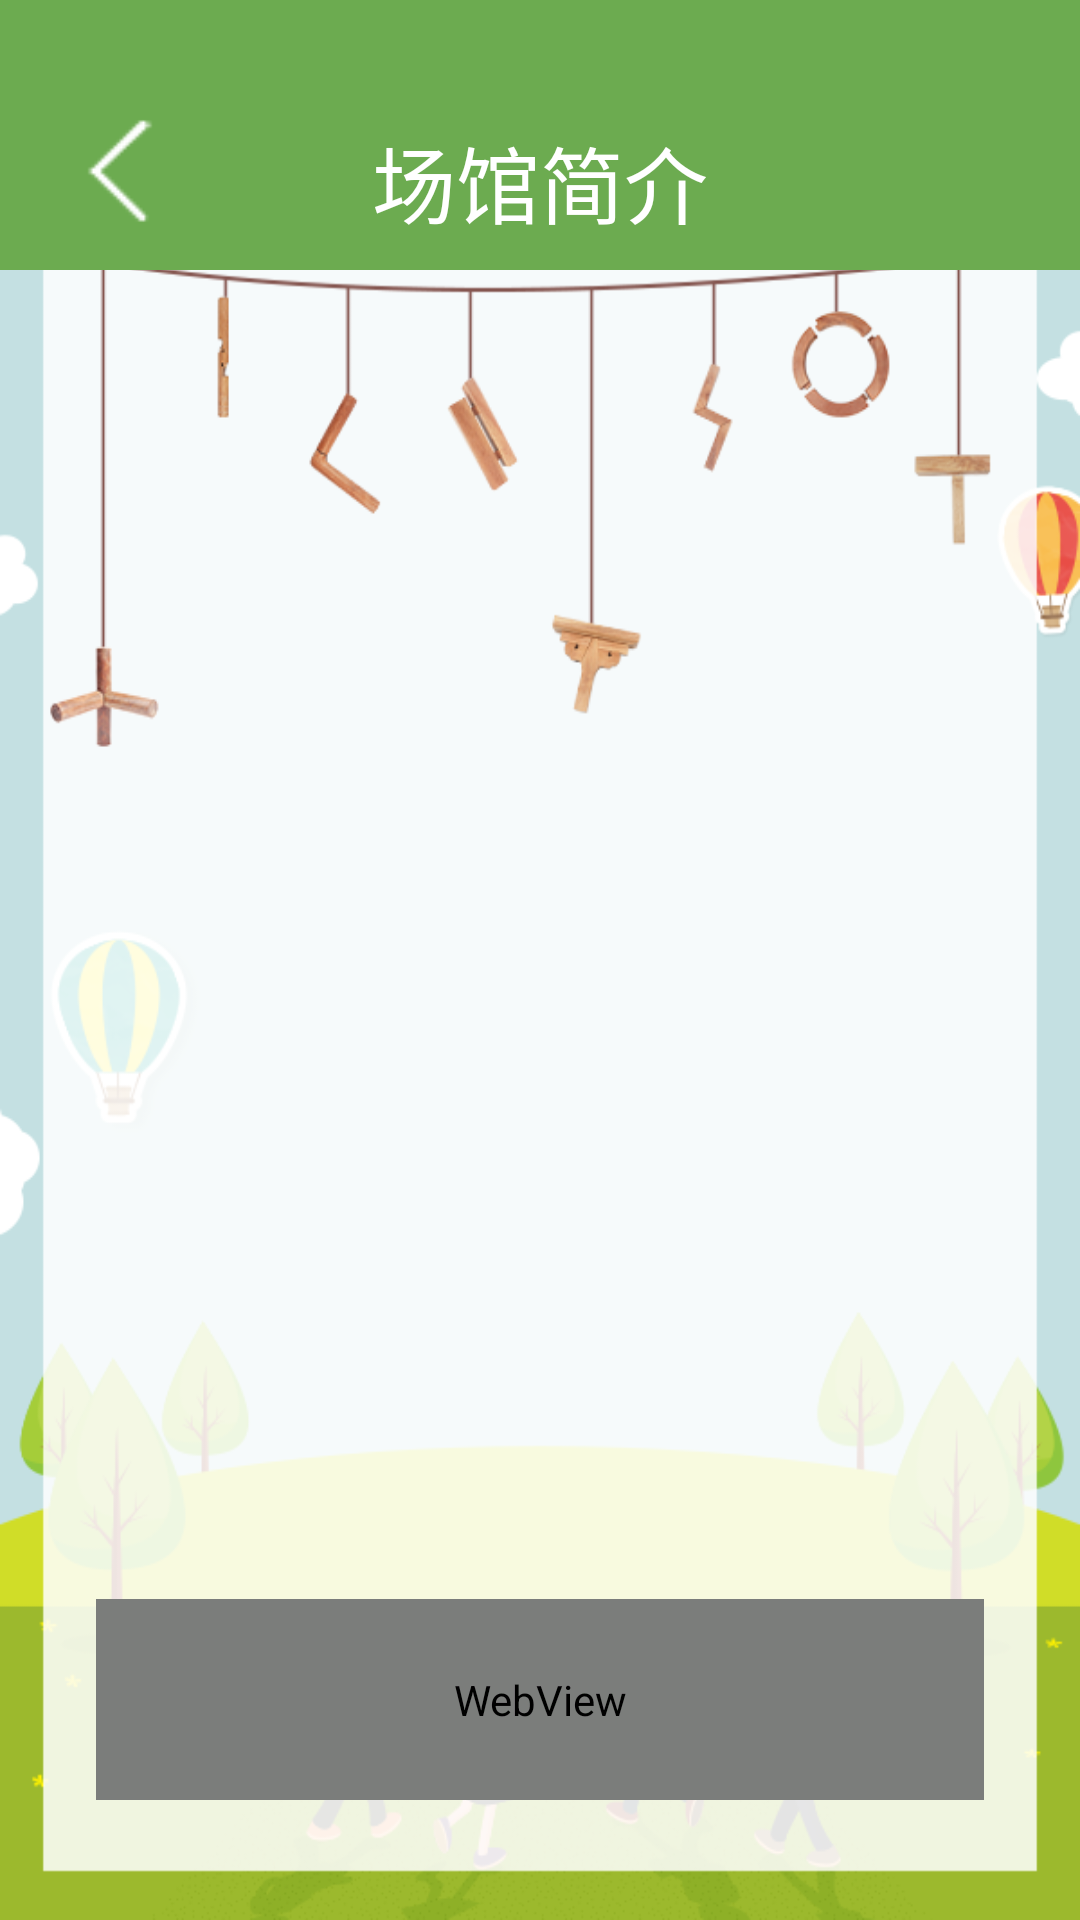

Point at icon controls on the screen. Image size 1080 x 1920, points as (x=x, y=y).
dao back: (x=120, y=171)
